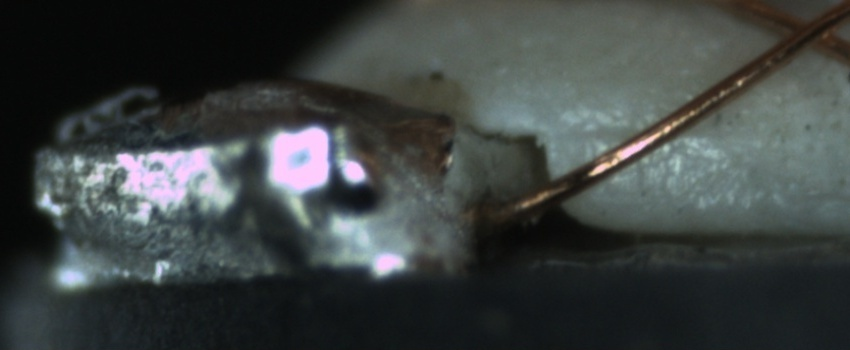CL: (762, 1, 844, 61)
DL: (561, 100, 729, 160)
